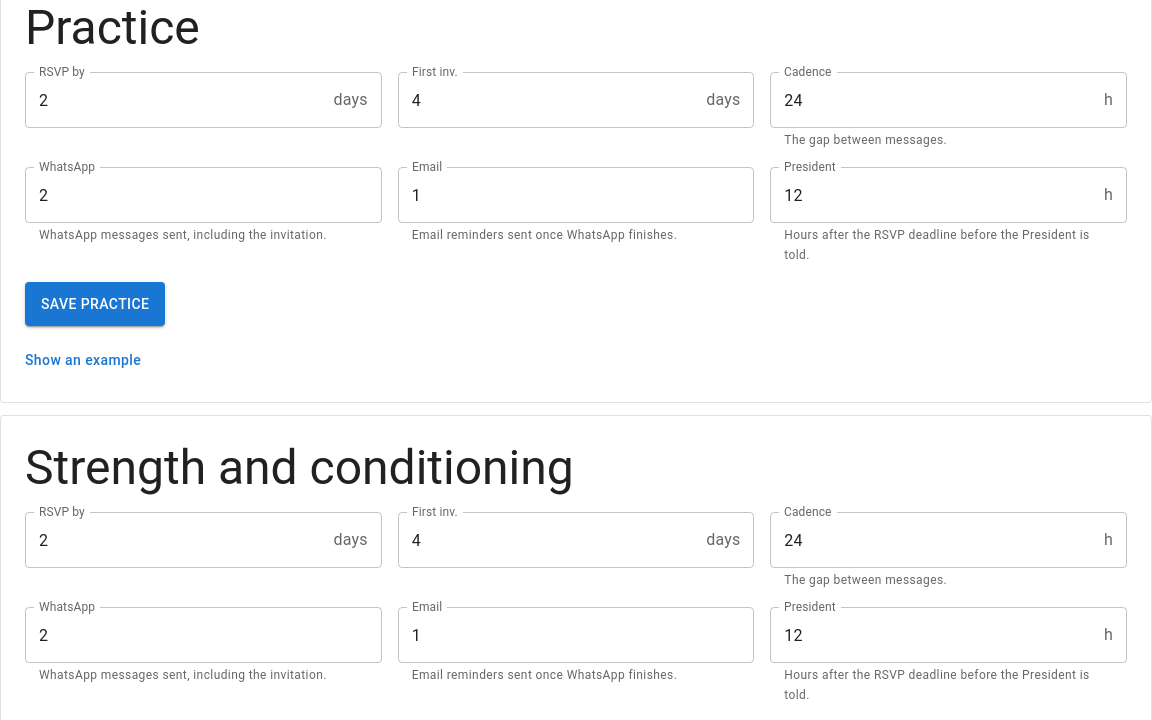
Test case: the table › reveals the worked example only once a row is opened
The image size is (1152, 720).
(page scrolled)
Check: the element with test id "schedule-row" does not show "Player RSVP deadline"
Click the button with test id "schedule-row-toggle".
click(83, 360)  # box [25,342,141,378]
(page scrolled)
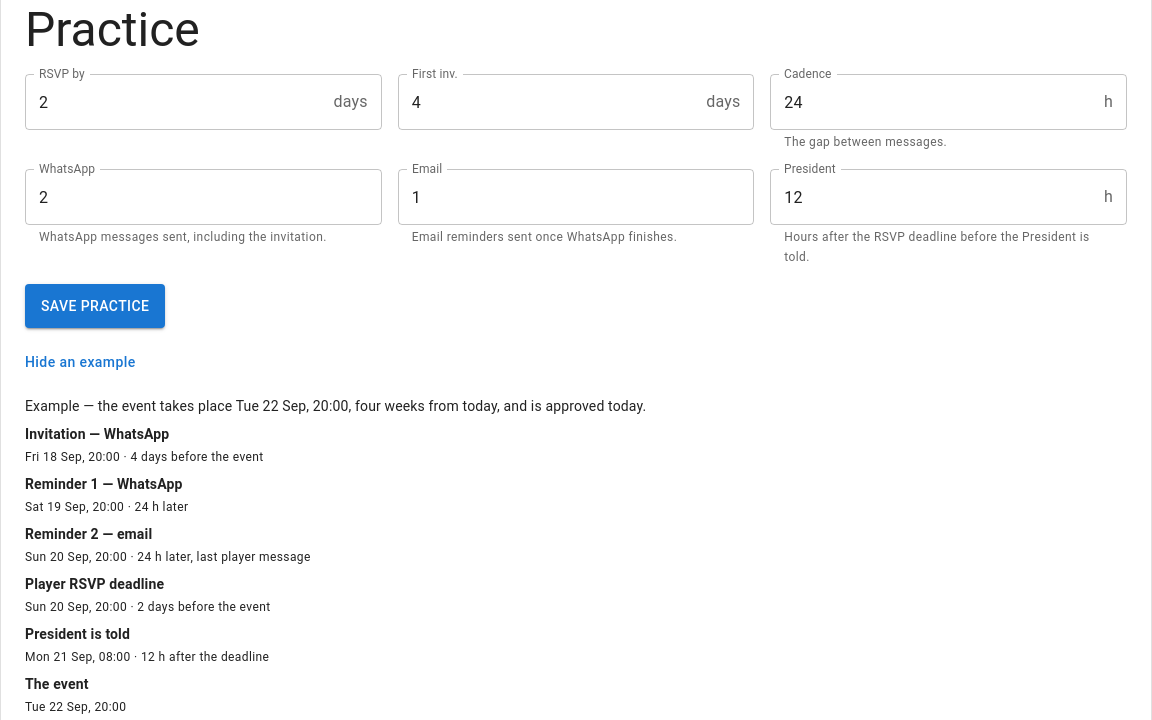
Check: the form with test id "schedule-row" shows "Player RSVP deadline", box [25,576,164,592]
Check: the form with test id "schedule-row" shows "The event", box [25,676,88,692]
